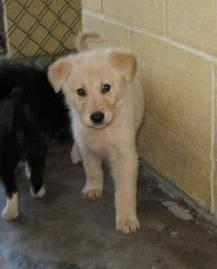dog: (48, 34, 144, 231)
